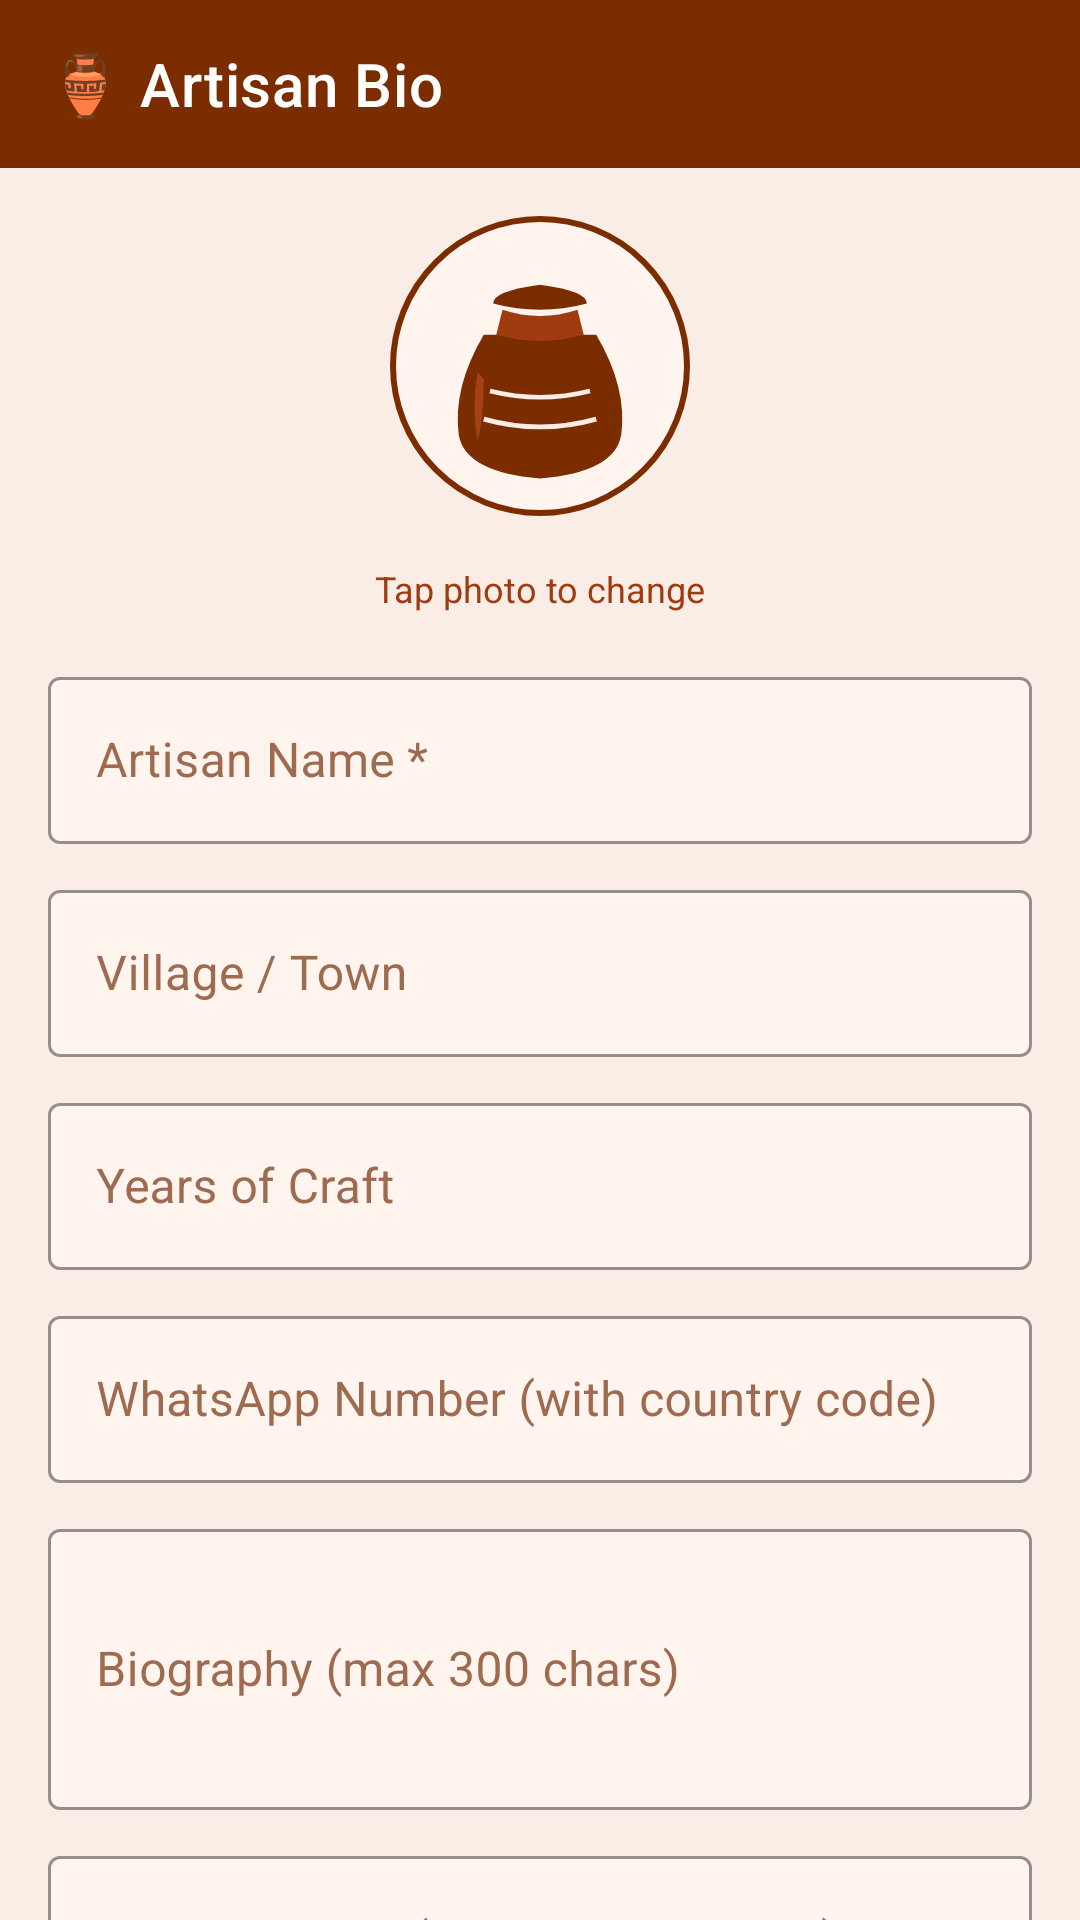

Icon click points for this 1080 × 1920 phone screenshot, format point (x, y):
clay pot: point (540, 366)
